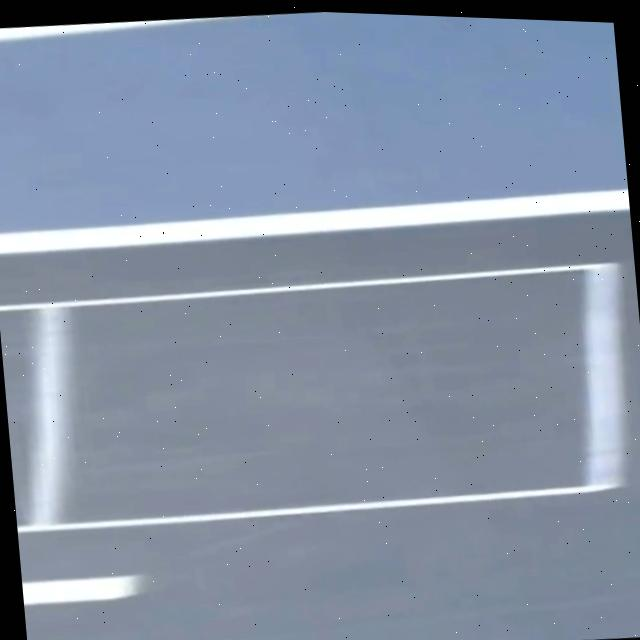center: (21, 573, 143, 603)
left: (0, 188, 629, 252)
